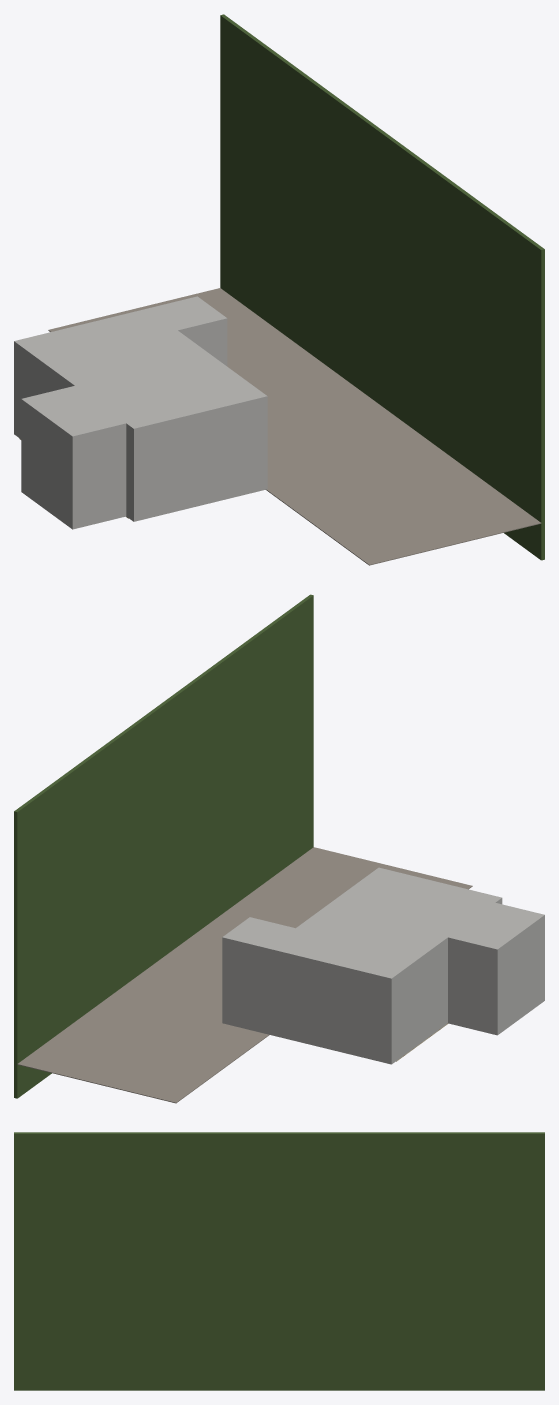
Rendered from kitchen_new.glb.
The picture shows the model from 3 angles, top to bottom: view 1: azimuth 30°, elevation 25°; view 2: azimuth 150°, elevation 25°; view 3: azimuth 270°, elevation 25°; orthographic projection. The views are drawn at different scales.
Parts seen in each view (by area): view 1: WX_Kitchen; view 2: WX_Kitchen; view 3: WX_Kitchen.
Part boxes in pixels (<box>): WX_Kitchen: <box>14,14,544,565</box>; WX_Kitchen: <box>14,594,544,1103</box>; WX_Kitchen: <box>14,1132,544,1390</box>.
Size of the model in its own units: 9.8 by 8 by 15.
Materials: 7 (6 with a texture image).
